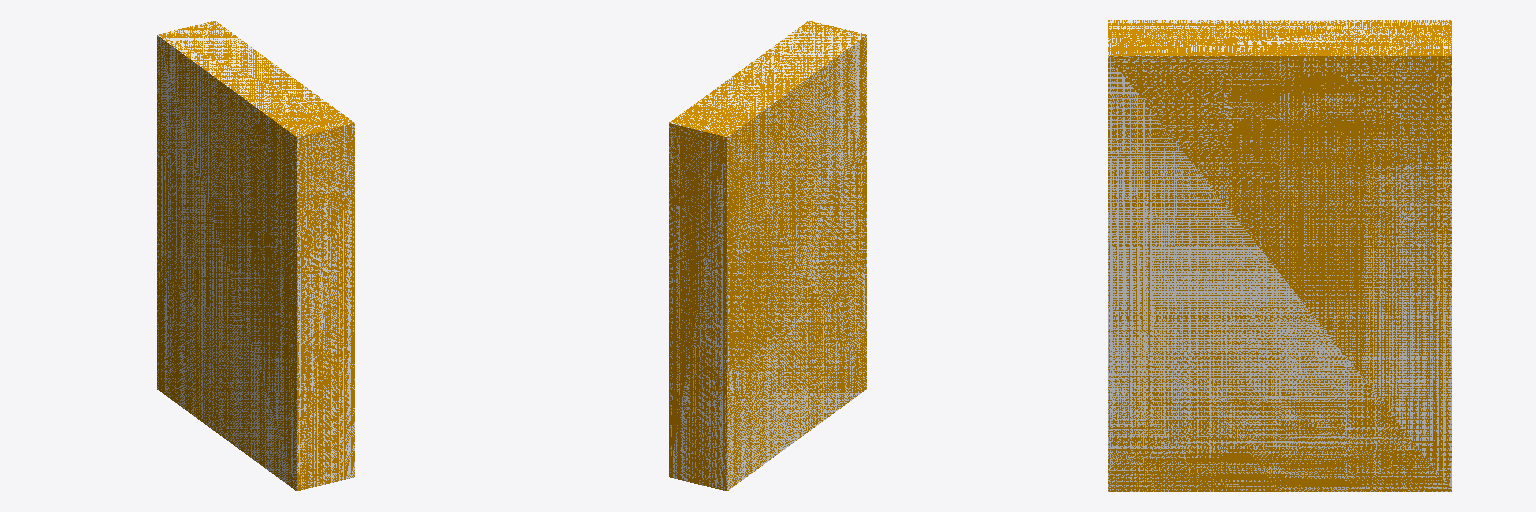
URDF robot description (my_object):
<?xml version="1.0" ?> 
<robot name="my_object" static="true">
  <link name="base_link">
  <inertial>
    <mass value="0.269" />
    <origin xyz="0 0 0.0" />
    <inertia ixx="1.0" ixy="0.0" ixz="0.0" iyy="1.0" iyz="0.0" izz="1.0"/>
  </inertial>
  <visual>
   <origin xyz="0 0 0.0" rpy="0 0 0" />
   <geometry>
     <mesh filename="package://cob_gazebo_objects/Media/models/basmati_rice.dae"/>
   </geometry>
  </visual>
  <collision>
   <origin xyz="0 0 0" rpy="0 0 0" />
   <geometry>
     <box size="0.029 0.122 0.17" />
   </geometry>
  </collision>     
  </link>

<gazebo>
	<static>true</static>
</gazebo>


<gazebo reference="base_link">
  <mu1>50.0</mu1>
  <mu2>50.0</mu2>
  <kp>1000000.0</kp>
  <kd>1.0</kd>
</gazebo>
</robot>

--- Facts derived from the render (not from the file) ---
Views: 3 orthographic renders of the robot side by side, from view 1: azimuth 30°, elevation 25°; view 2: azimuth 150°, elevation 25°; view 3: azimuth 270°, elevation 25°.
Model my_object with 1 links and 0 joints (none), rooted at base_link, posed all joints at 0.
Visible links, largest first — view 1: base_link; view 2: base_link; view 3: base_link.
Link boxes in pixels (bbox=[...]): base_link: bbox=[157, 21, 354, 490]; base_link: bbox=[669, 21, 866, 490]; base_link: bbox=[1108, 20, 1451, 491].
Size in the robot's own frame: 0.0293 by 0.1215 by 0.1696 metres.
Meshes: 1 distinct files referenced, 1 mesh visuals loaded (1 Collada DAE).